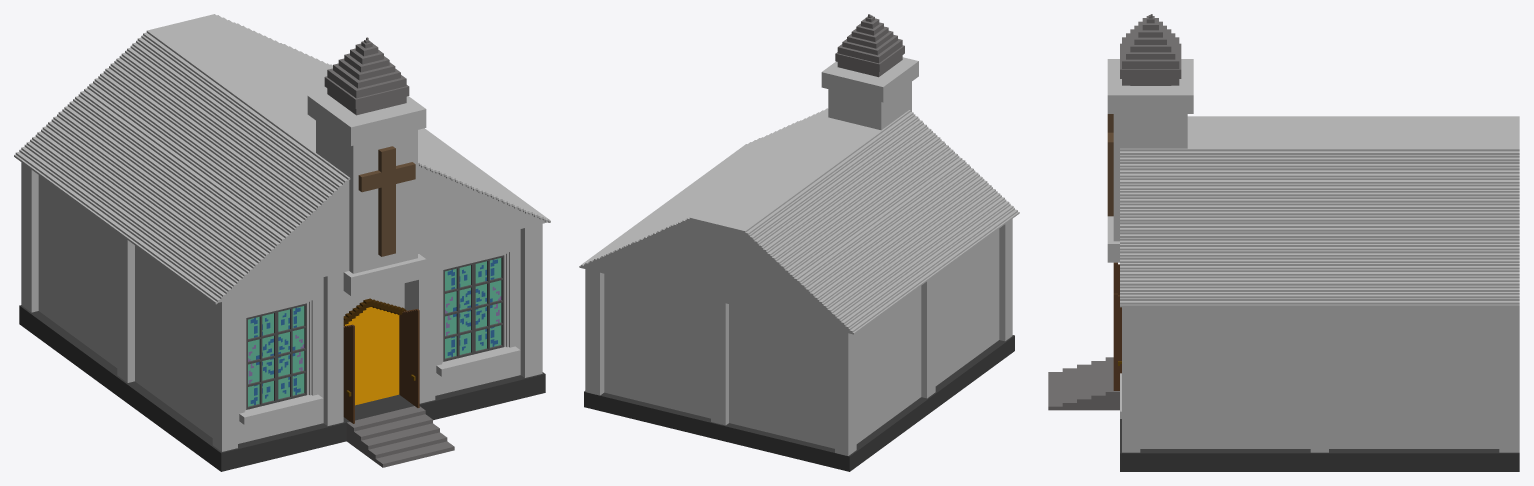
Rendered from Igreja.obj.
3 views of the same model, side by side, from view 1: azimuth 30°, elevation 25°; view 2: azimuth 150°, elevation 25°; view 3: azimuth 270°, elevation 25° (orthographic). The views are drawn at different scales.
Bounding box in the file's own units: 18.7 × 20.4 × 23.
Materials: 1 (1 with a texture image).
